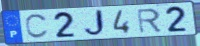2: (53, 10, 80, 41), (165, 4, 192, 35)
4: (112, 9, 133, 35)
C: (24, 13, 50, 40)
J: (82, 8, 108, 39)
R: (136, 8, 164, 35)
